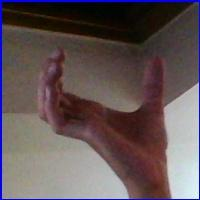space: (33, 39, 177, 172)
